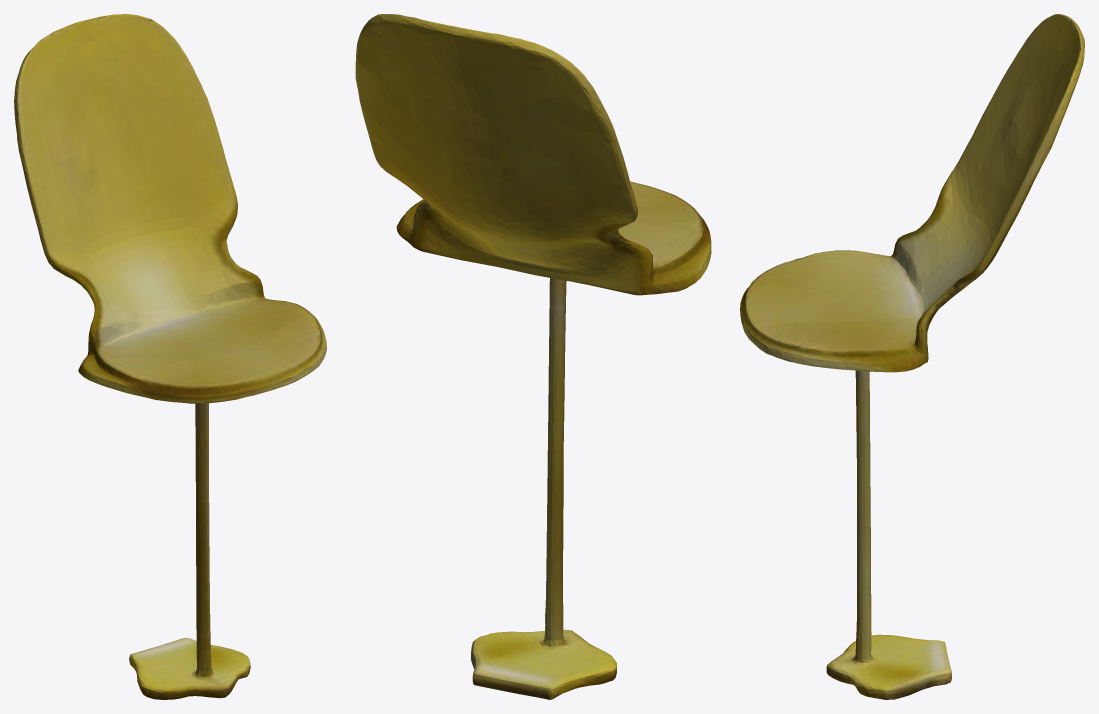
3 renders of one model, left to right at view 1: azimuth 30°, elevation 25°; view 2: azimuth 150°, elevation 25°; view 3: azimuth 270°, elevation 25°, orthographic. The views are drawn at different scales.
Visible parts, largest first — view 1: world; view 2: world; view 3: world.
Part boxes in pixels (x1,y1,x2,y2): world: (14, 14, 326, 699); world: (355, 14, 711, 699); world: (740, 14, 1084, 699).
Bounding box in the file's own units: 0.1967 × 0.4898 × 0.2442.
Materials: 1 (1 with a texture image).
